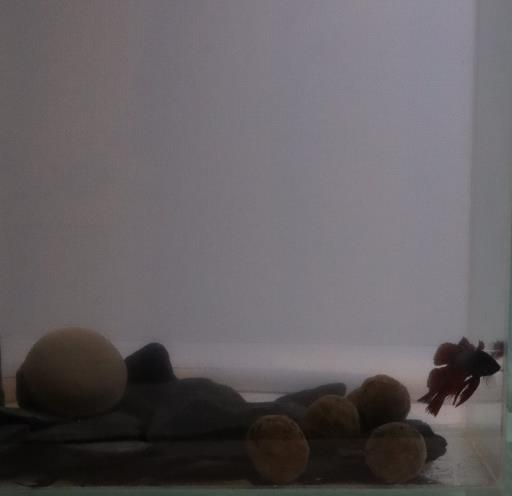fish: (415, 331, 501, 420)
